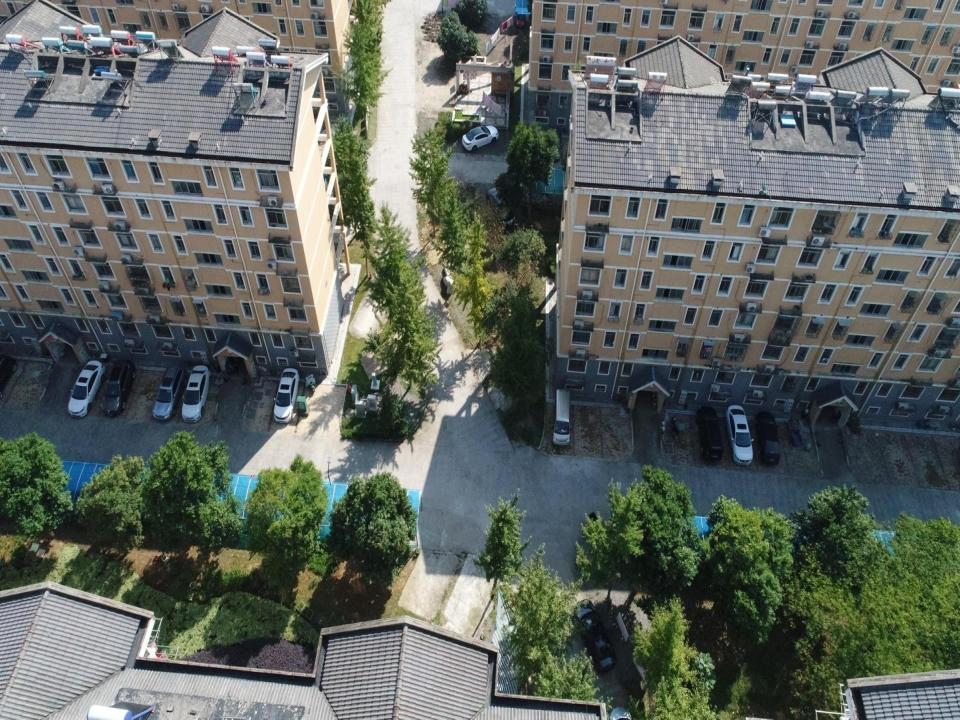car: (572, 599, 616, 672), (68, 359, 106, 417), (152, 365, 188, 420), (101, 360, 136, 416), (724, 405, 754, 465), (181, 365, 212, 423), (696, 405, 724, 461), (273, 368, 300, 423), (754, 410, 781, 464), (486, 187, 517, 227), (462, 126, 499, 152), (0, 354, 18, 402)
van: (551, 389, 571, 447)
